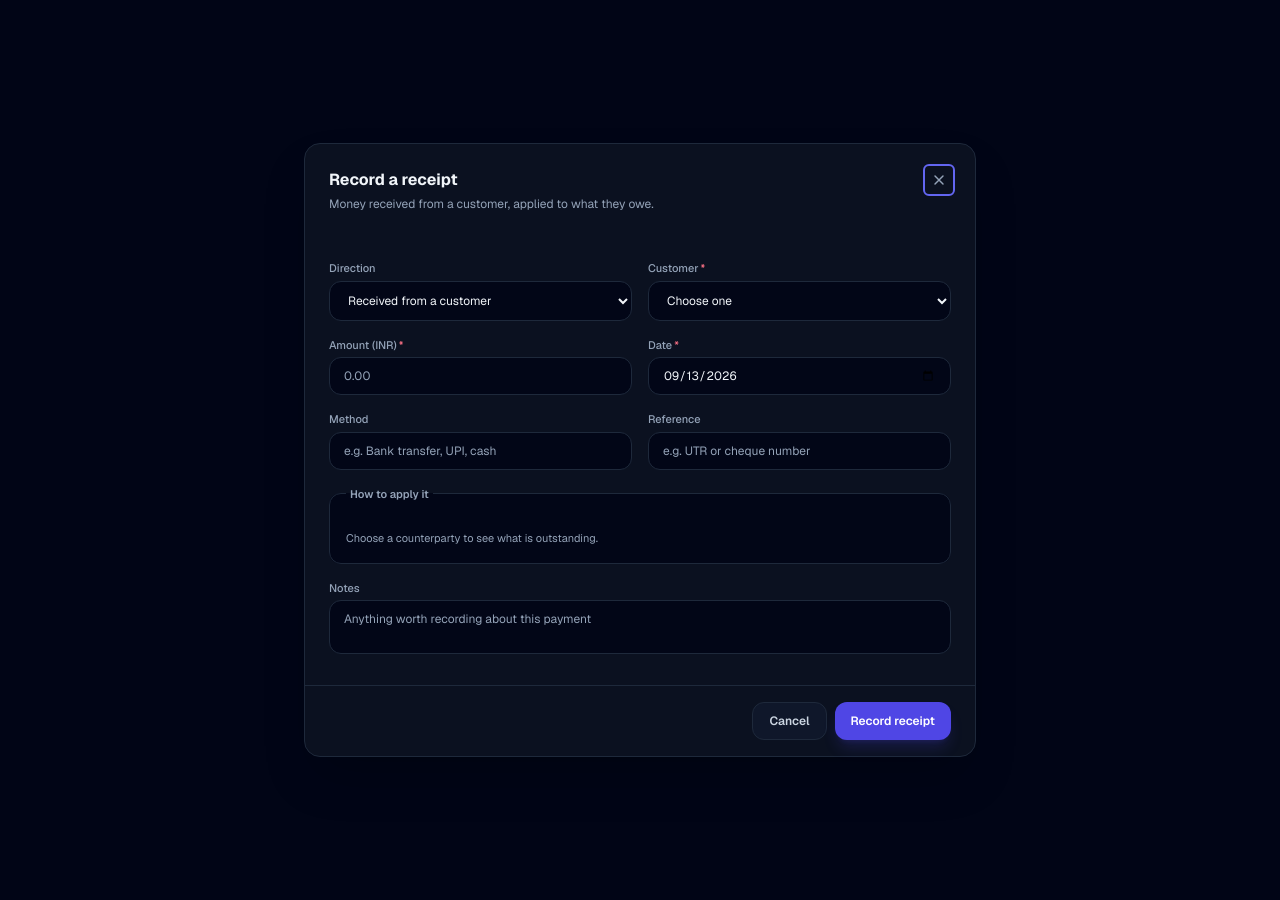
Scenario: RecordPaymentModal › rejects an amount of zero
The image size is (1280, 900).
Select "Acme Ltd" in the dropdown labelled "Customer*" at [800, 300], box left=648, top=280, right=951, bottom=320
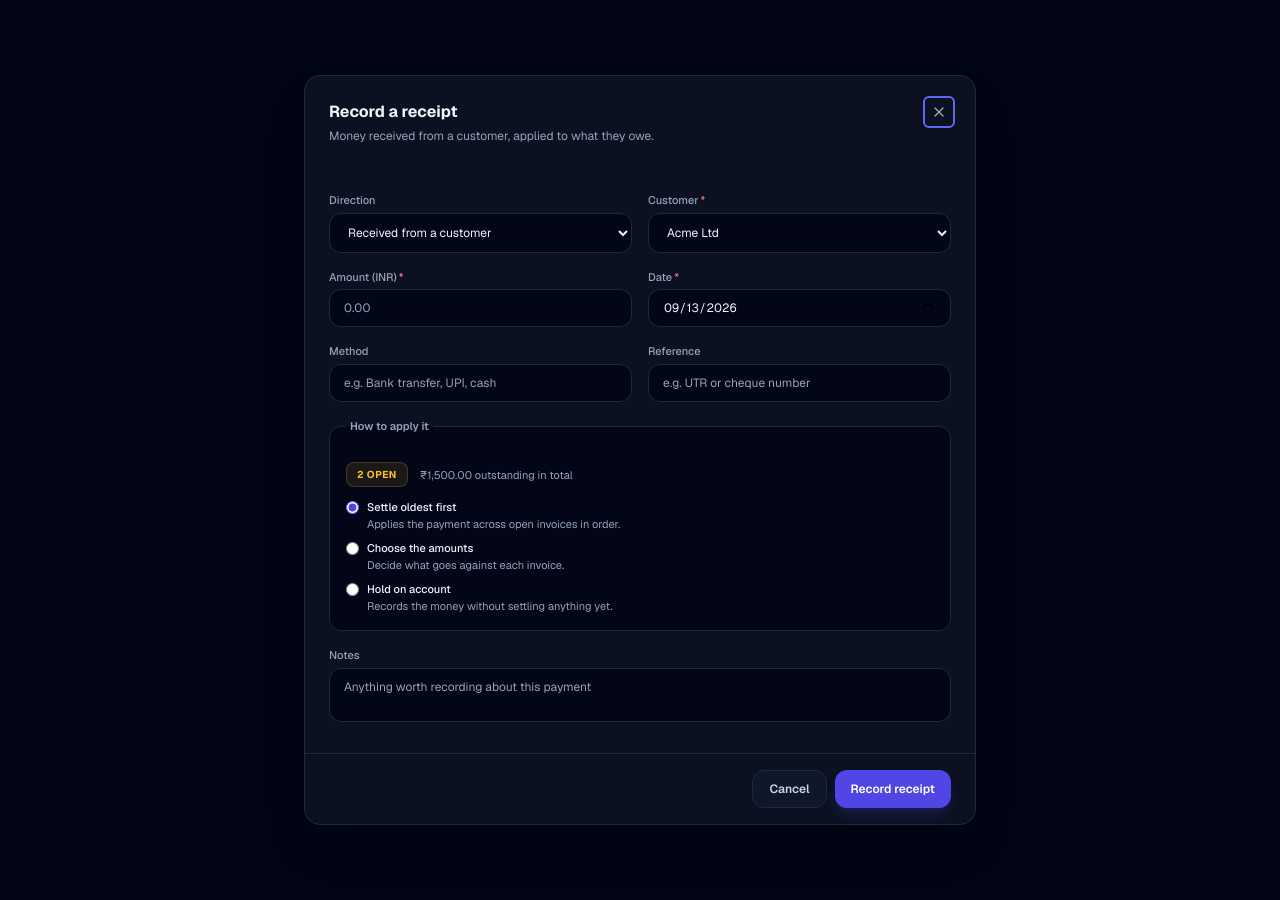
Now the text "2 open" is shown, box left=346, top=462, right=408, bottom=487
Type "0" into the field labelled "Amount (INR)*" at [480, 308], box left=329, top=289, right=632, bottom=327
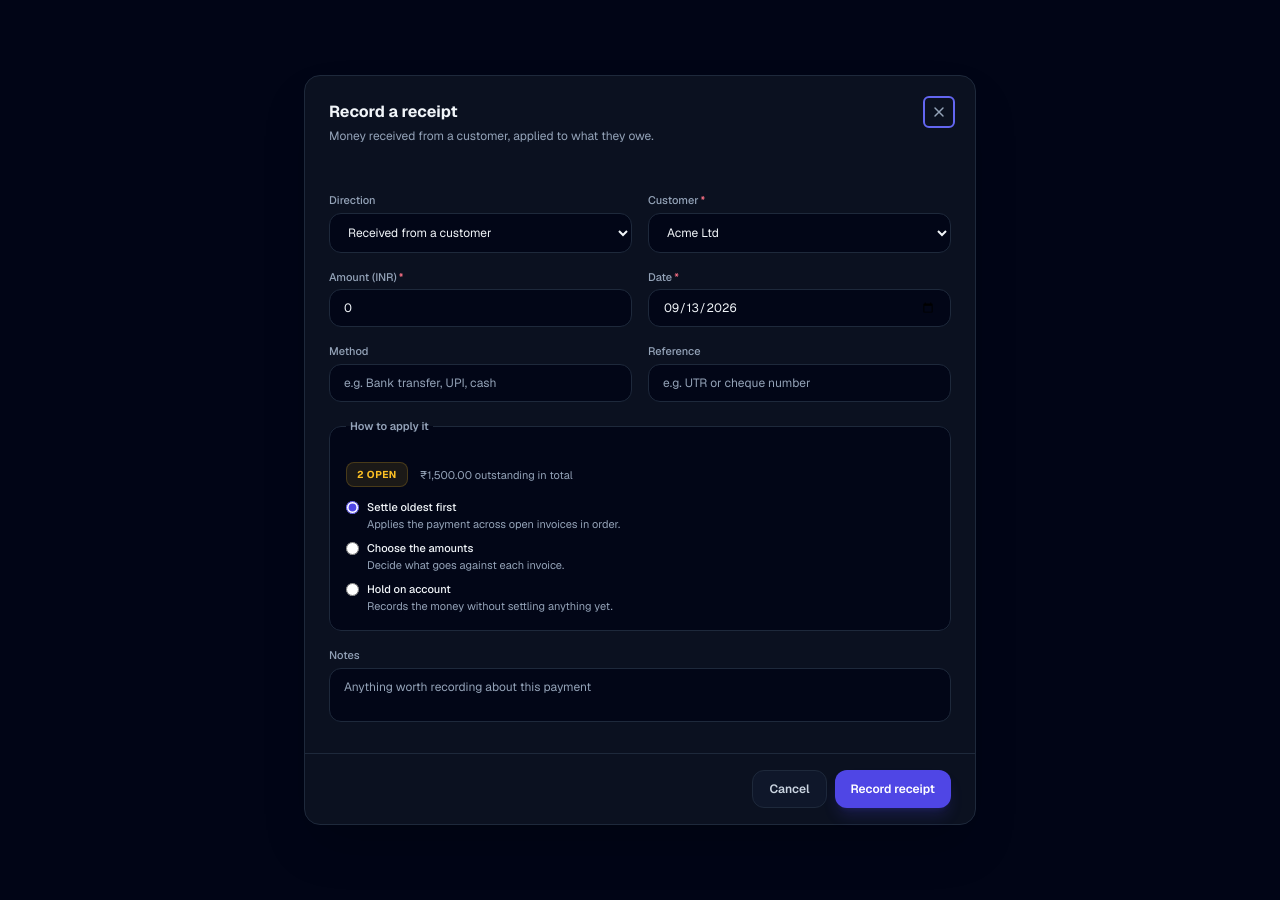
Click the button "Record receipt" at [893, 789], box left=834, top=770, right=951, bottom=808
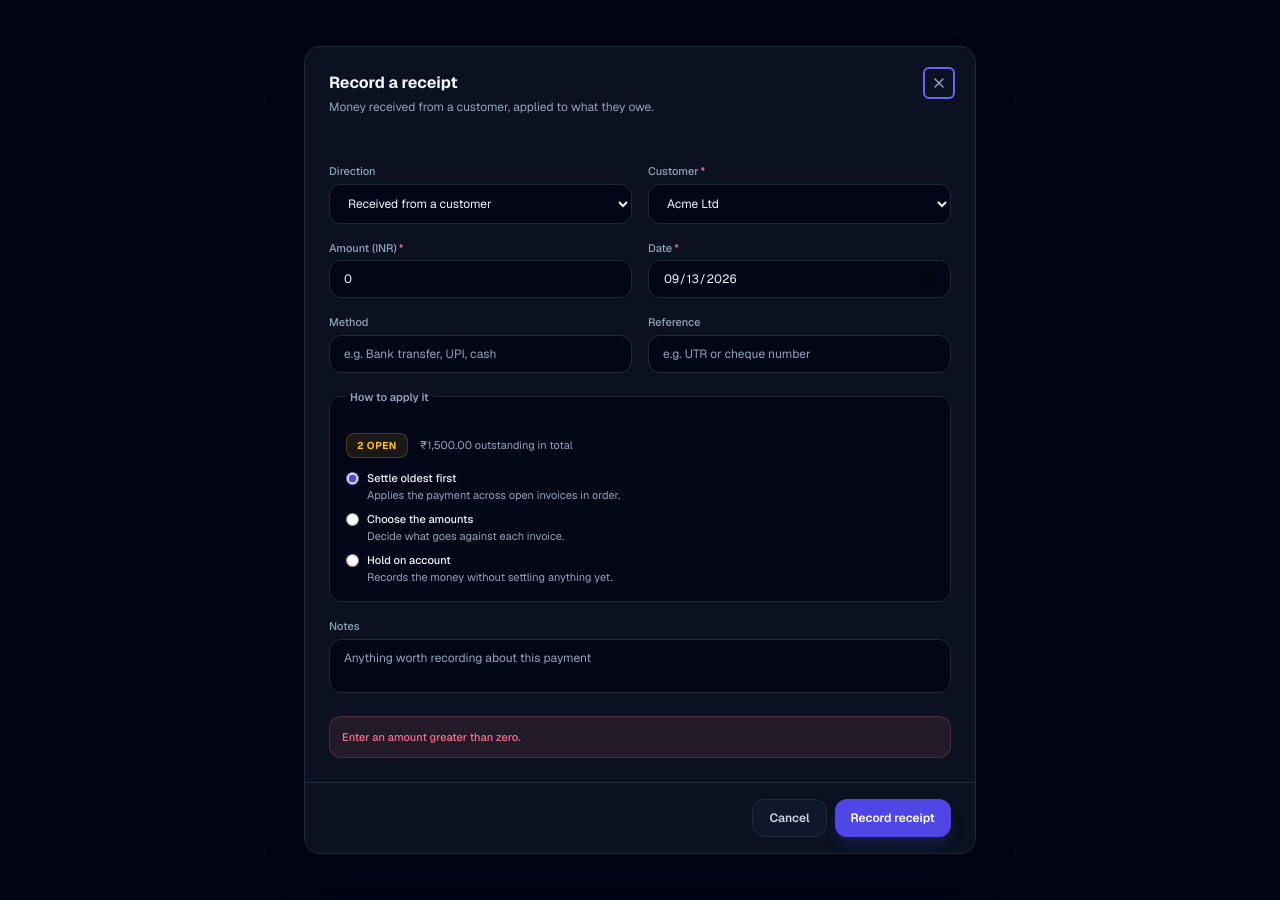
Now the message shows "greater than zero", box left=342, top=730, right=520, bottom=744
